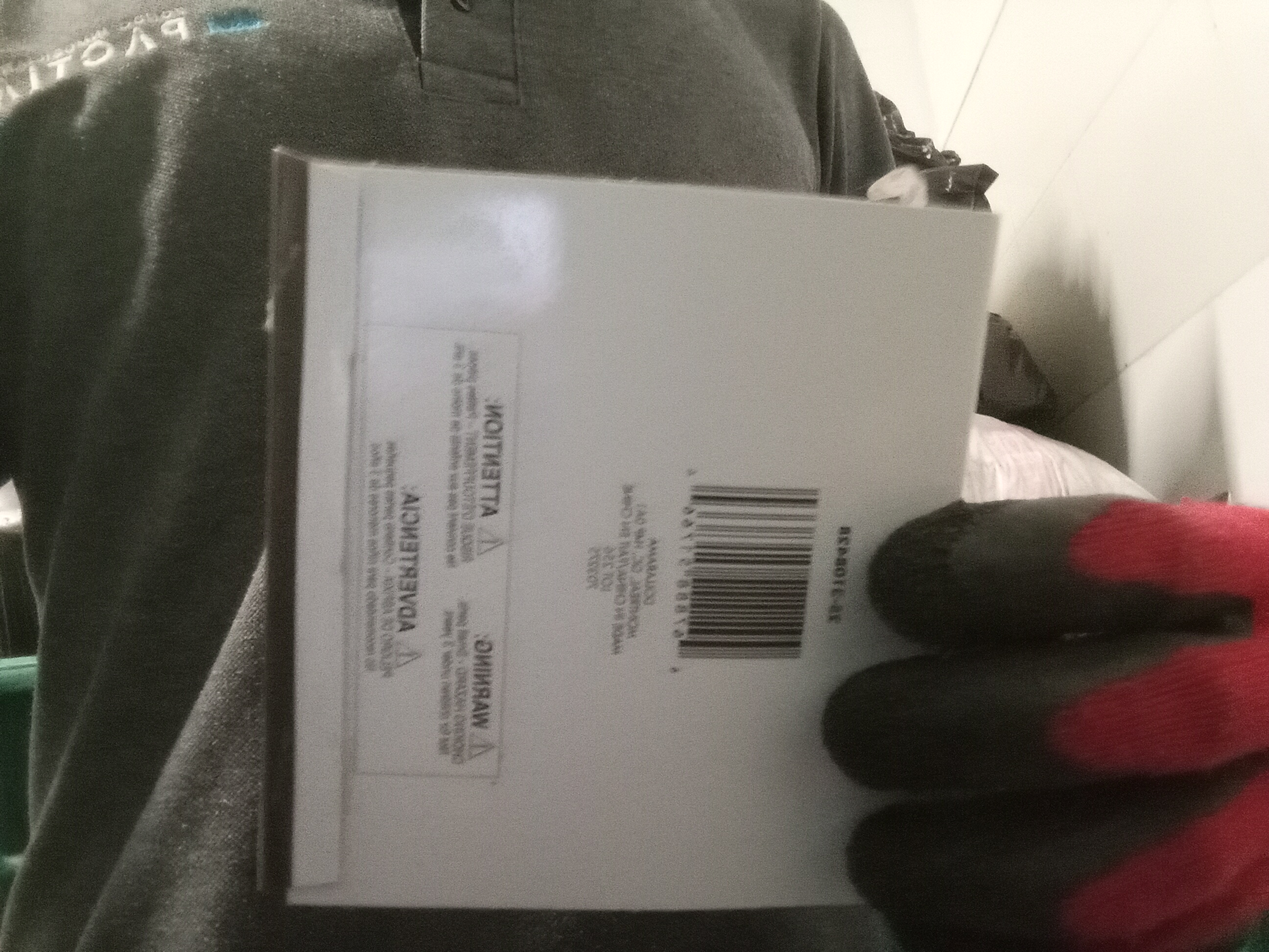Carton: (267, 133, 998, 907)
